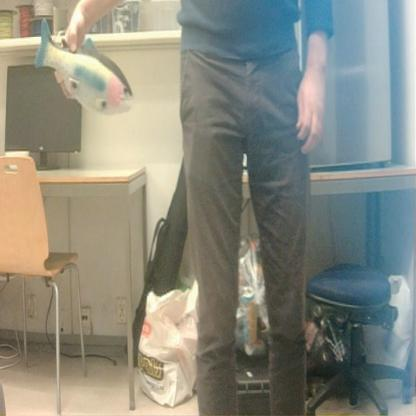rubberfish: (32, 12, 137, 120)
